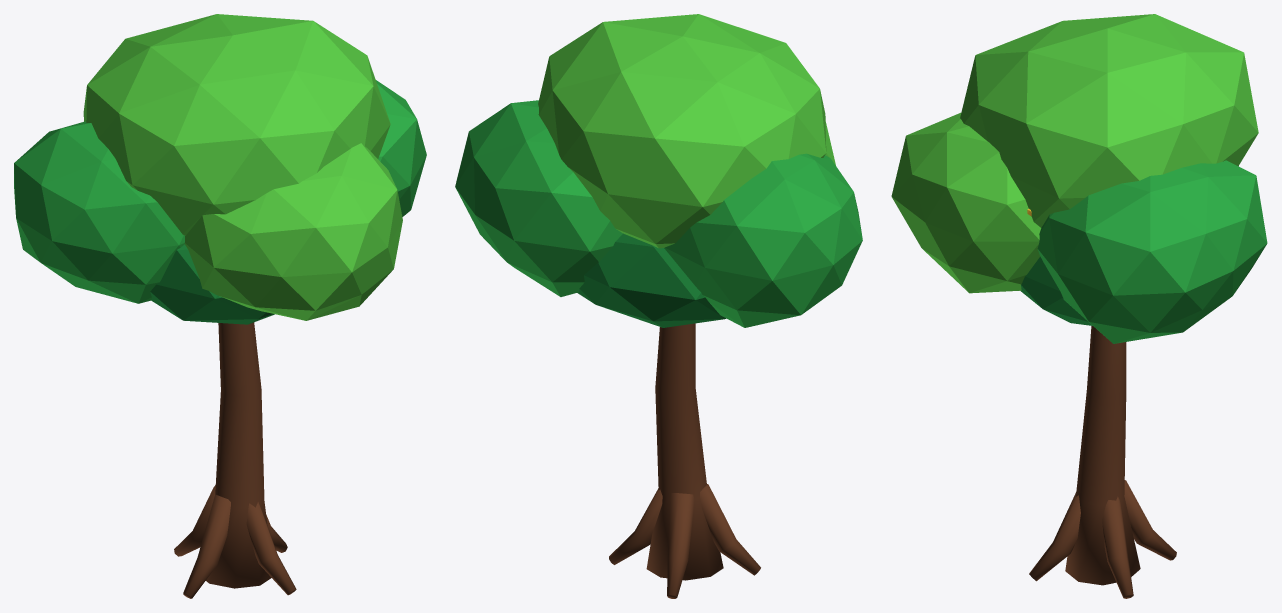
Rendered from tree_canopy.glb.
3 renders of one model, left to right at view 1: azimuth 30°, elevation 25°; view 2: azimuth 150°, elevation 25°; view 3: azimuth 270°, elevation 25°, orthographic.
Visible parts, largest first — view 1: Canopy, Trunk; view 2: Canopy, Trunk; view 3: Canopy, Trunk.
Boxes of the visible parts, left/top/right/bottom form: Canopy: left=14, top=14, right=426, bottom=324; Trunk: left=174, top=322, right=296, bottom=598; Canopy: left=455, top=14, right=862, bottom=327; Trunk: left=609, top=323, right=760, bottom=598; Canopy: left=891, top=14, right=1267, bottom=343; Trunk: left=1029, top=326, right=1176, bottom=598.
Bounding box in the file's own units: 4.86 × 6.56 × 4.12.
